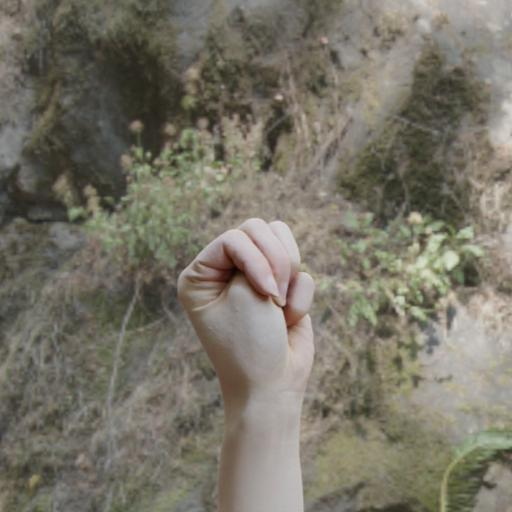M: (166, 209, 342, 512)
